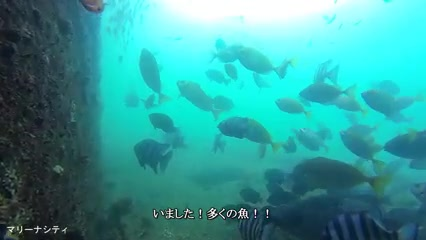smallfish: (129, 134, 174, 172), (274, 90, 319, 125)
